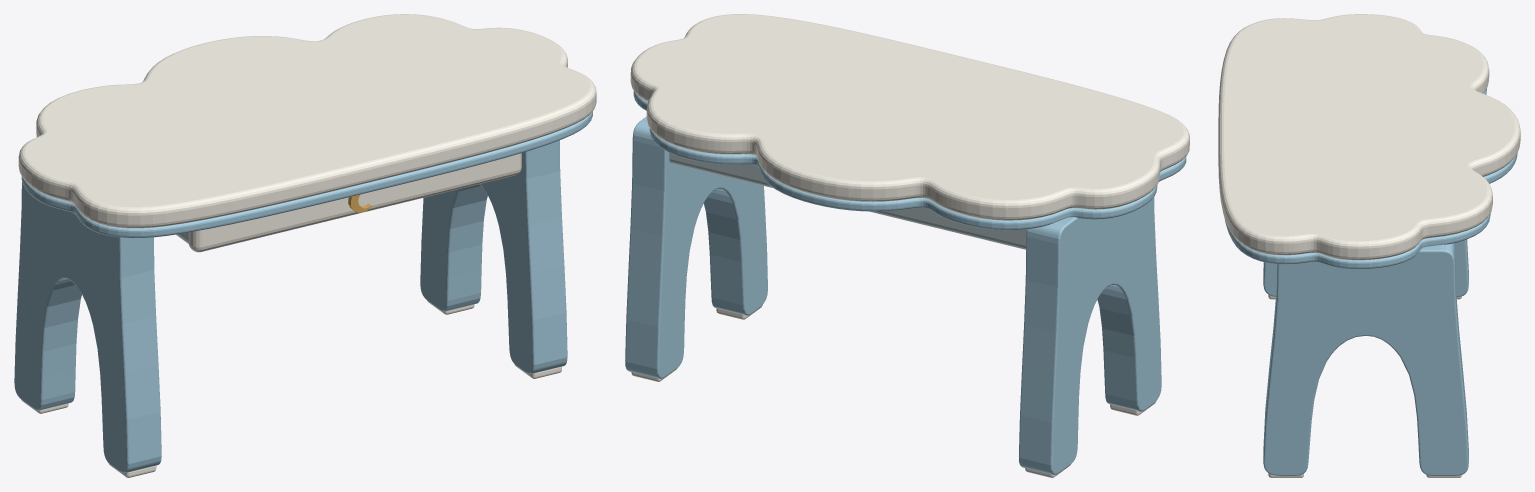
The model's file is cloud-desk.glb.
3 views of the same model, side by side, from view 1: azimuth 30°, elevation 25°; view 2: azimuth 150°, elevation 25°; view 3: azimuth 270°, elevation 25° (orthographic). The views are drawn at different scales.
Parts seen in each view (by area): view 1: cloudDesk; view 2: cloudDesk; view 3: cloudDesk.
Boxes of the visible parts, x1,y1,x2,y2 form: cloudDesk: (14,14,596,477); cloudDesk: (625,14,1189,477); cloudDesk: (1218,14,1520,477).
Bounding box in the file's own units: 2.51 × 1.29 × 1.39.
